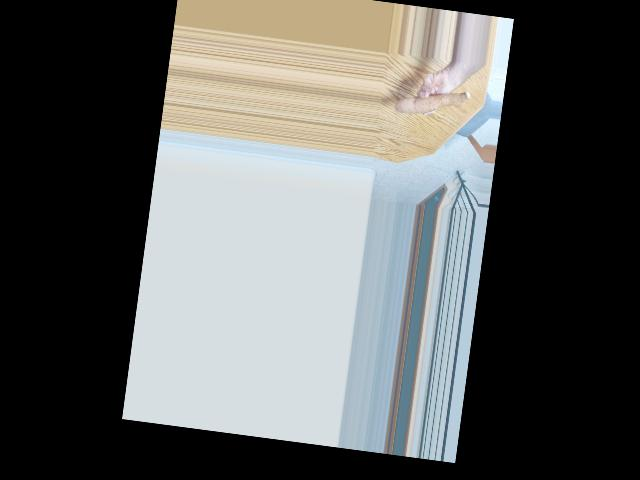sweet_potato: (397, 76, 471, 125)
